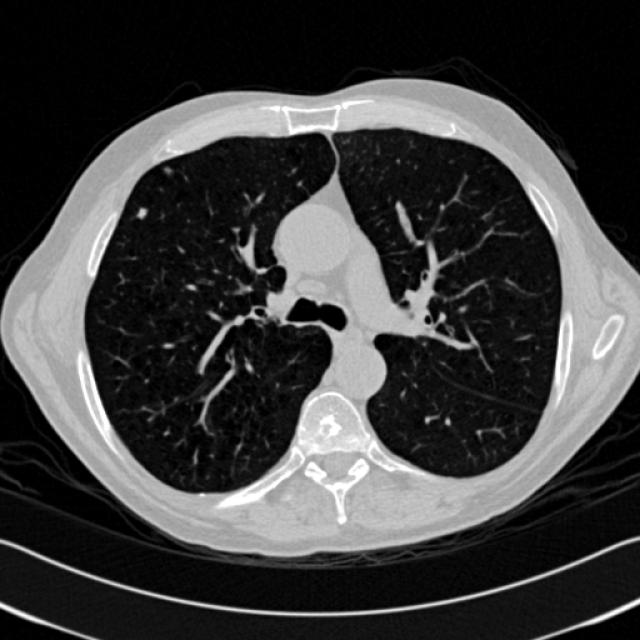nodule: (127, 199, 155, 226)
